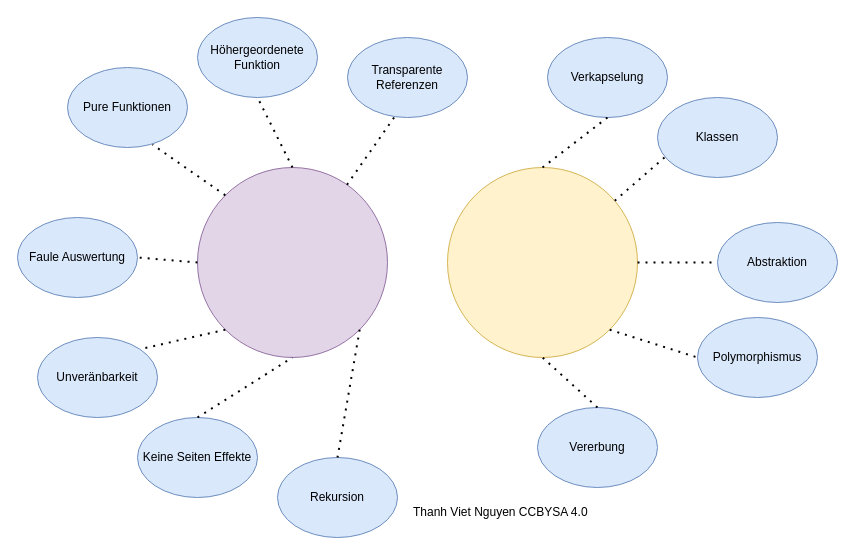
This 855x555 diagram has some shape labels left out. Each missing label, with the centre of its shape:
"FP" goes at point (292, 262).
"OOP" goes at point (542, 262).
